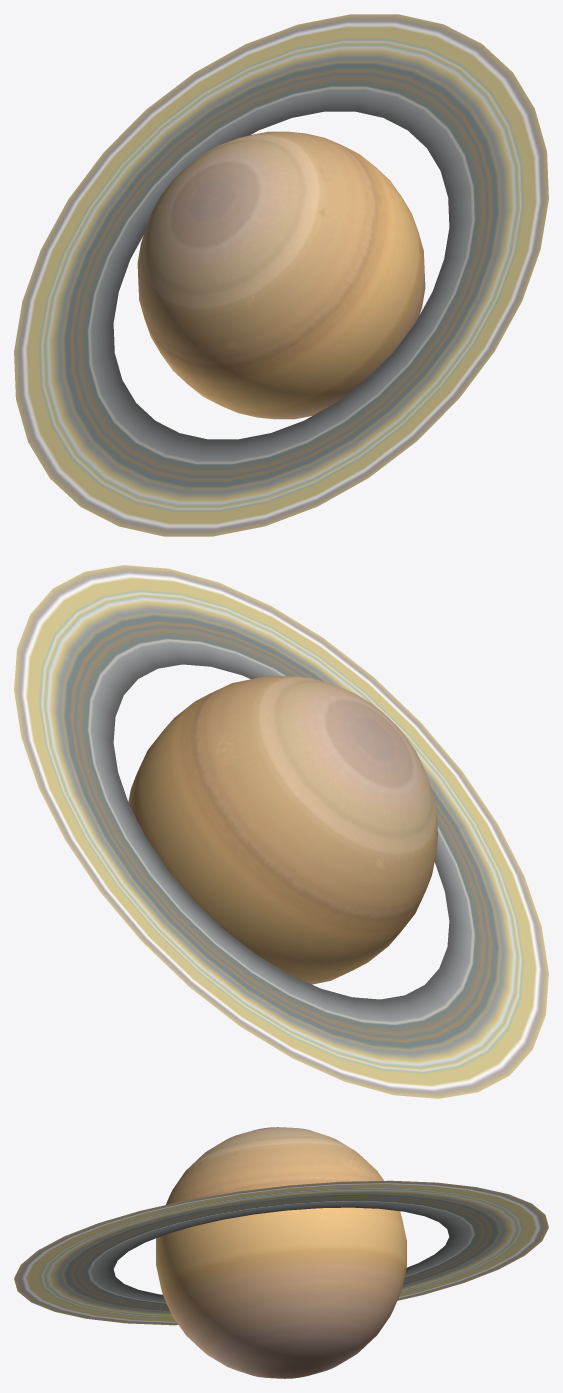
Rendered from saturn.glb.
3 views of the same model, one above another, from view 1: azimuth 30°, elevation 25°; view 2: azimuth 150°, elevation 25°; view 3: azimuth 270°, elevation 25° (orthographic). The views are drawn at different scales.
Parts seen in each view (by area): view 1: Cylinder, saturn; view 2: Cylinder, saturn; view 3: saturn, Cylinder.
Part boxes in pixels (x1,y1,x2,y2): Cylinder: (14, 14, 548, 536); saturn: (137, 131, 425, 419); Cylinder: (14, 565, 548, 1098); saturn: (128, 675, 437, 984); saturn: (156, 1127, 406, 1378); Cylinder: (14, 1180, 548, 1325).
Bounding box in the file's own units: 1.5 × 1.23 × 1.93.
2 materials, 2 textured.
